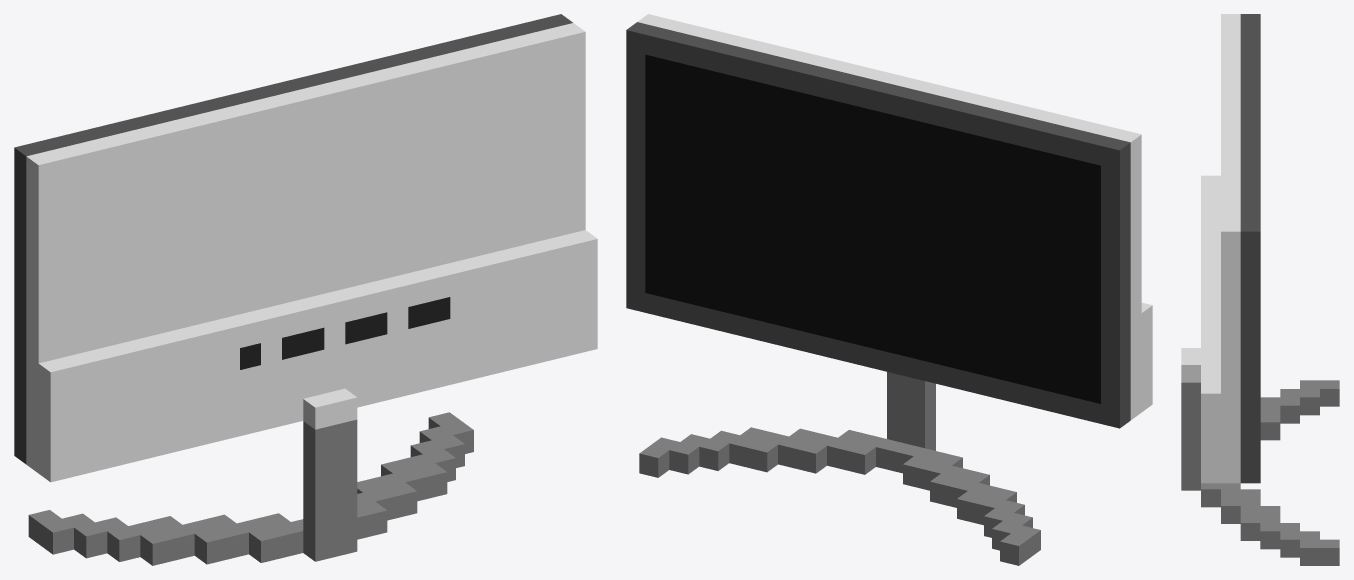
File: voxel-computer-monitor-by-philippos-slicher-bkzBvM2zPY5.glb
The picture shows the model from 3 angles, left to right: view 1: azimuth 30°, elevation 25°; view 2: azimuth 150°, elevation 25°; view 3: azimuth 270°, elevation 25°; orthographic projection. The views are drawn at different scales.
Visible parts, largest first — view 1: Node; view 2: Node; view 3: Node.
Part boxes in pixels (x1,y1,x2,y2): Node: (14,14,597,565); Node: (626,14,1152,565); Node: (1181,14,1339,565).
Bounding box in the file's own units: 26 × 20 × 8.
Materials: 1 (1 with a texture image).
